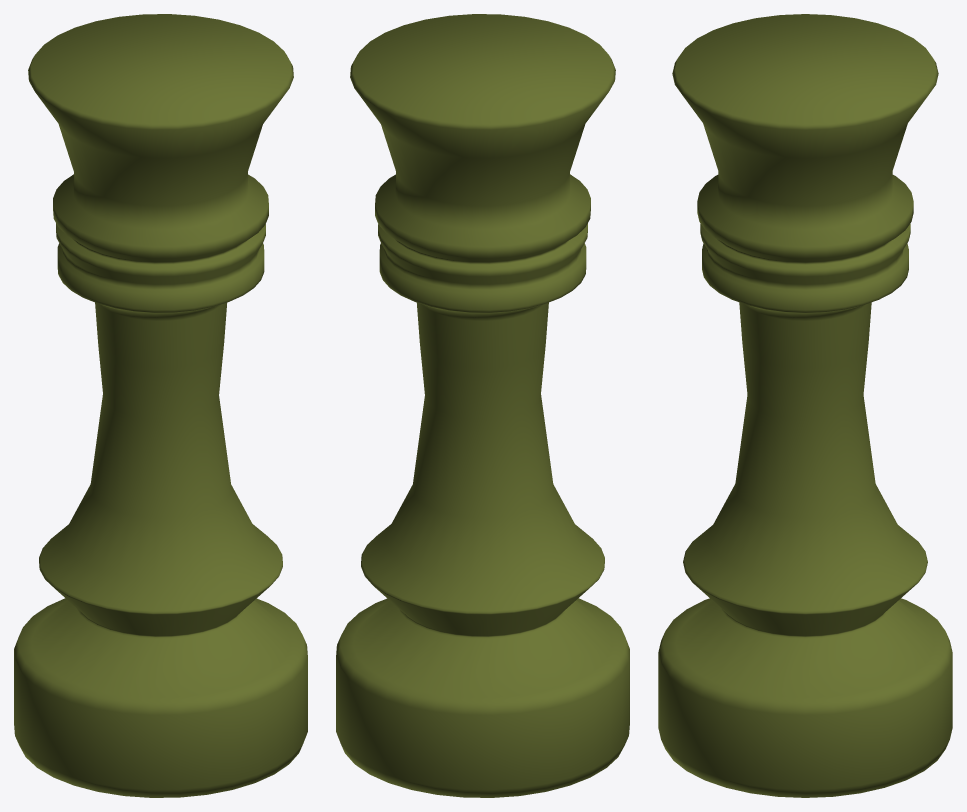
File: deco2.fbx
3 views of the same model, side by side, from view 1: azimuth 30°, elevation 25°; view 2: azimuth 150°, elevation 25°; view 3: azimuth 270°, elevation 25° (orthographic).
Parts seen in each view (by area): view 1: Sphere.001; view 2: Sphere.001; view 3: Sphere.001.
Boxes of the visible parts, x1,y1,x2,y2 form: Sphere.001: (14, 14, 307, 797); Sphere.001: (336, 14, 629, 797); Sphere.001: (658, 14, 952, 797).
Size of the model in its own units: 176 by 176 by 440.
